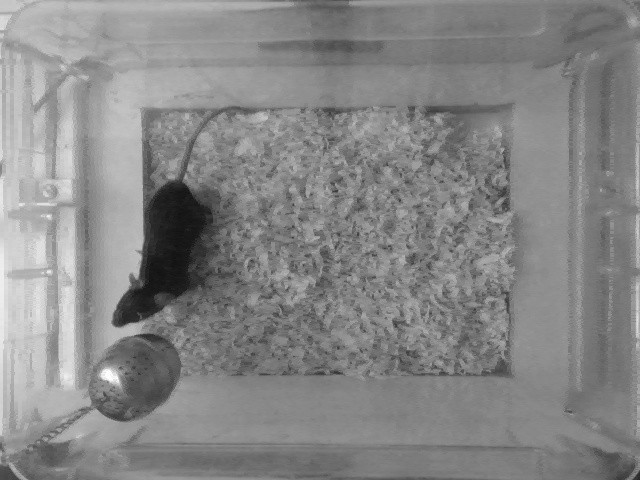mice: (108, 102, 245, 333)
